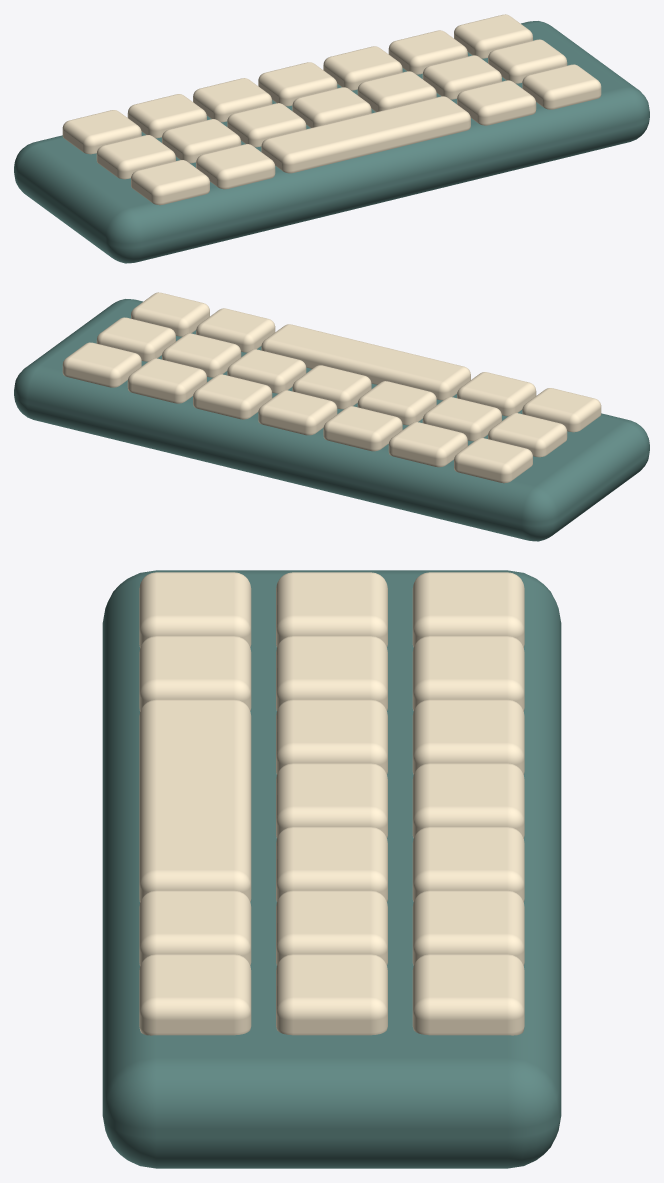
Rendered from keyboard.glb.
3 renders of one model, top to bottom at view 1: azimuth 30°, elevation 25°; view 2: azimuth 150°, elevation 25°; view 3: azimuth 270°, elevation 25°, orthographic. The views are drawn at different scales.
Visible parts, largest first — view 1: Keyboard_shell, Key_space, Key_bottom_-3, Key_bottom_3, Key_bottom_2, Key_bottom_-2, Key_0_0, Key_1_0, Key_1_5, Key_0_3, Key_0_5, Key_0_4 (+8 smaller); view 2: Keyboard_shell, Key_space, Key_0_0, Key_0_2, Key_0_3, Key_0_6, Key_0_5, Key_0_1, Key_0_4, Key_bottom_-3, Key_1_0, Key_1_5 (+8 smaller); view 3: Keyboard_shell, Key_space, Key_0_6, Key_bottom_3, Key_1_6, Key_0_5, Key_bottom_2, Key_0_2, Key_1_5, Key_1_2, Key_0_0, Key_bottom_-3 (+8 smaller).
Boxes of the visible parts, <box> form: Keyboard_shell: <box>14,21,649,263</box>; Key_space: <box>261,96,470,173</box>; Key_bottom_-3: <box>131,160,209,205</box>; Key_bottom_3: <box>522,64,601,109</box>; Key_bottom_2: <box>457,80,536,125</box>; Key_bottom_-2: <box>196,144,275,189</box>; Key_0_0: <box>62,110,141,154</box>; Key_1_0: <box>96,135,175,179</box>; Key_1_5: <box>422,55,501,99</box>; Key_0_3: <box>258,62,337,106</box>; Key_0_5: <box>388,30,467,74</box>; Key_0_4: <box>323,46,402,90</box>; Keyboard_shell: <box>14,299,649,541</box>; Key_space: <box>261,324,470,400</box>; Key_0_0: <box>454,438,532,483</box>; Key_0_2: <box>323,406,402,451</box>; Key_0_3: <box>258,390,337,435</box>; Key_0_6: <box>62,342,141,387</box>; Key_0_5: <box>127,358,206,403</box>; Key_0_1: <box>388,422,467,467</box>; Key_0_4: <box>193,374,272,419</box>; Key_bottom_-3: <box>522,388,601,432</box>; Key_1_0: <box>488,413,567,457</box>; Key_1_5: <box>162,333,241,377</box>; Keyboard_shell: <box>102,570,561,1168</box>; Key_space: <box>139,699,251,902</box>; Key_0_6: <box>412,954,524,1035</box>; Key_bottom_3: <box>139,954,251,1035</box>; Key_1_6: <box>276,954,387,1035</box>; Key_0_5: <box>412,890,524,965</box>; Key_bottom_2: <box>139,890,251,965</box>; Key_0_2: <box>412,699,524,774</box>; Key_1_5: <box>276,890,387,965</box>; Key_1_2: <box>276,699,387,774</box>; Key_0_0: <box>412,572,524,647</box>; Key_bottom_-3: <box>139,572,251,647</box>.
Size of the model in its own units: 1.28 by 0.155 by 0.47.
